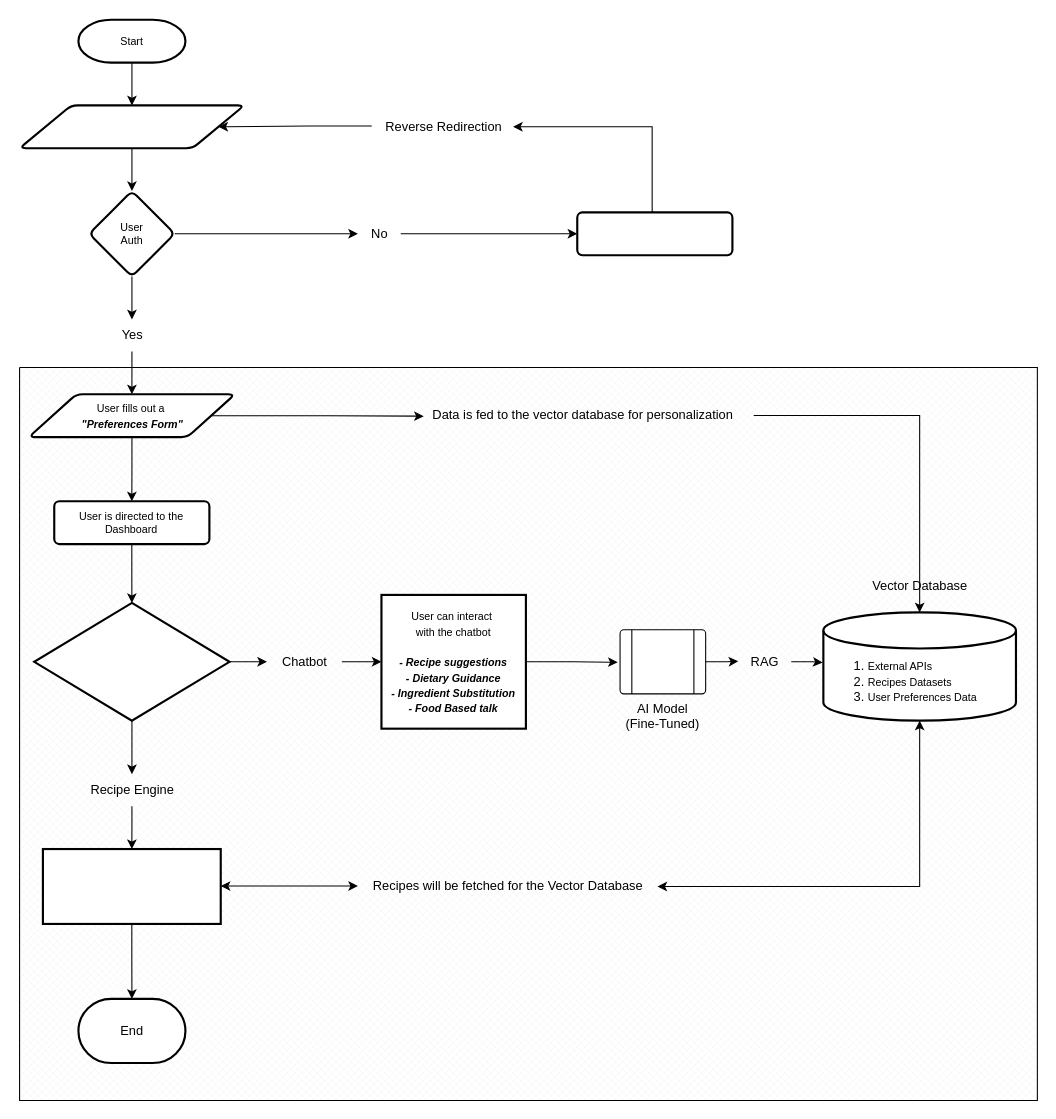
The diagram is 1056 pixels wide and 1119 high, and some of its shapes have lost their labels. The box of each missing label's shape, as (x1, y1, x2, y2) in pixels:
User can choose to interact with the recipe engine or chatbot: (33, 601, 230, 721)
User can search for recipes from the dataset or external APIs: (41, 847, 221, 924)
User is directed back to login: (576, 211, 733, 256)
Users enter credentials: (18, 104, 245, 149)
